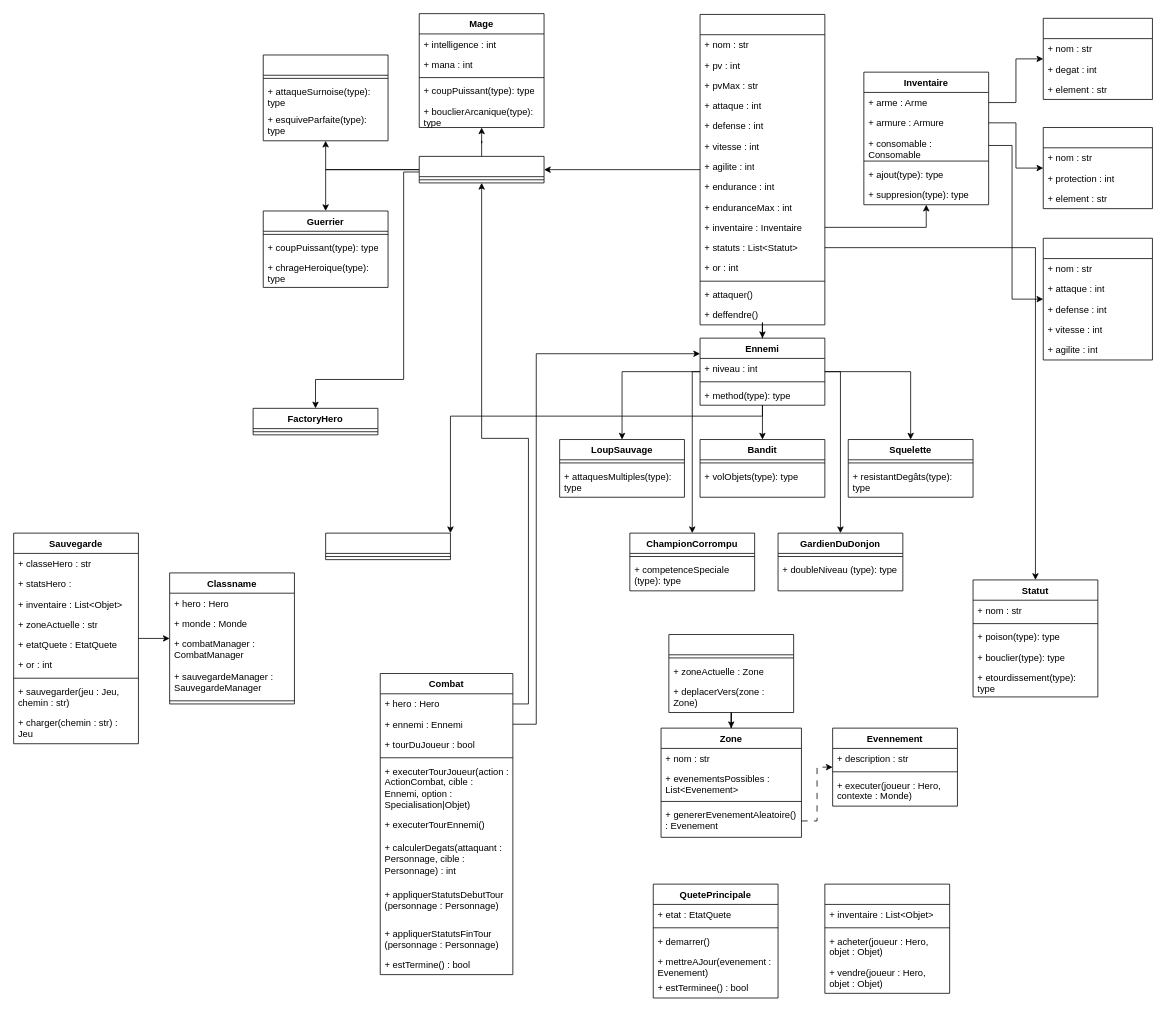
Some shapes in this 1166 by 1014 pixel diagram are drawn without their labels. Here are the shapes that lost their labels. From the top down, the box of each, then its label:
(1042, 18, 1152, 99): Arme
(262, 54, 388, 141): Voleur
(418, 156, 544, 183): Hero
(699, 14, 825, 325): Personnage
(1042, 127, 1152, 209): Armure
(1042, 238, 1152, 360): Consomable
(325, 532, 450, 560): FactoryEnnemi
(668, 634, 794, 713): Monde
(824, 883, 950, 993): Marchand
